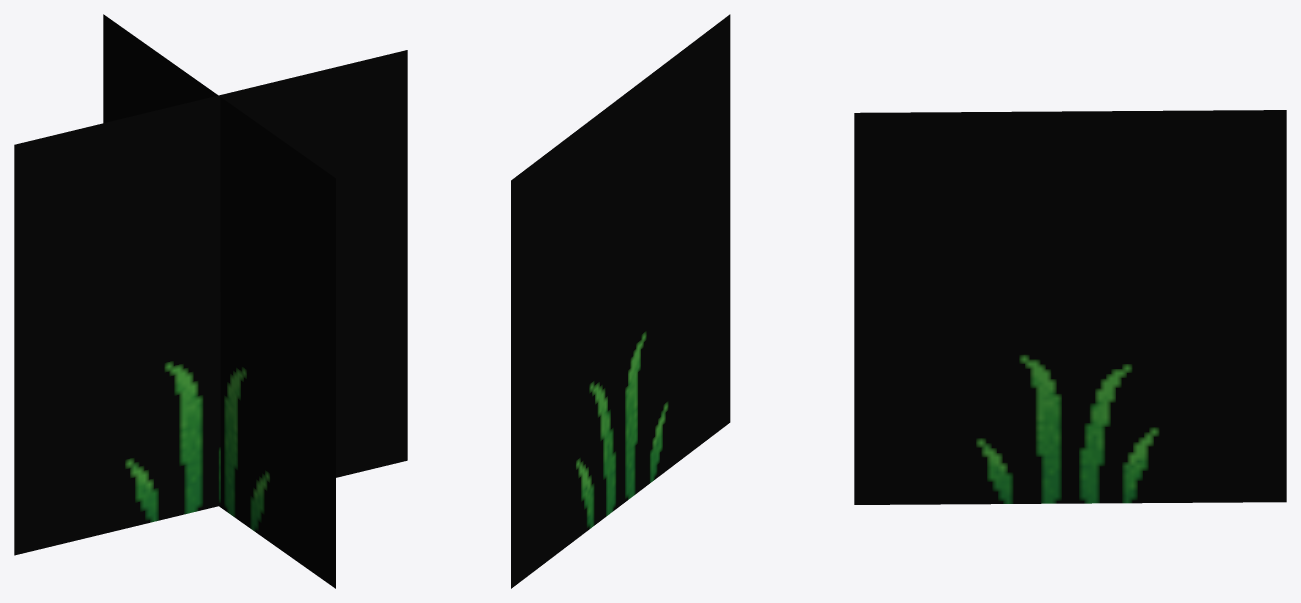
Rendered from Grass_Terrain 1.fbx.
3 views of the same model, side by side, from view 1: azimuth 30°, elevation 25°; view 2: azimuth 150°, elevation 25°; view 3: azimuth 270°, elevation 25° (orthographic). The views are drawn at different scales.
Visible parts, largest first — view 1: Plane; view 2: Plane; view 3: Plane.
Boxes of the visible parts, left/top/right/bottom form: Plane: left=14, top=14, right=407, bottom=588; Plane: left=511, top=14, right=730, bottom=588; Plane: left=854, top=110, right=1286, bottom=504.
Size of the model in its own units: 2 by 2 by 2.01.
Materials: 1 (1 with a texture image).
